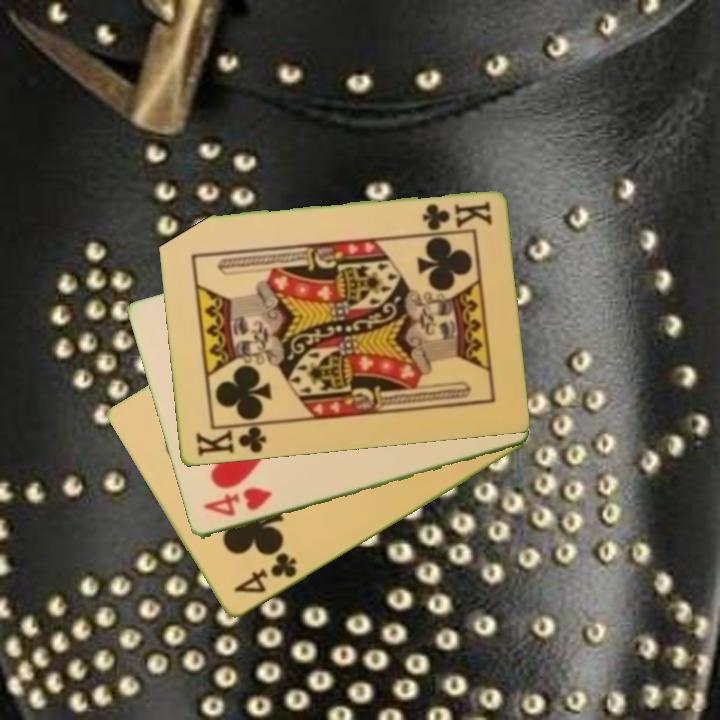4c: (230, 549, 300, 597)
4h: (199, 484, 275, 520)
Kc: (192, 420, 271, 459), (418, 198, 494, 232)
